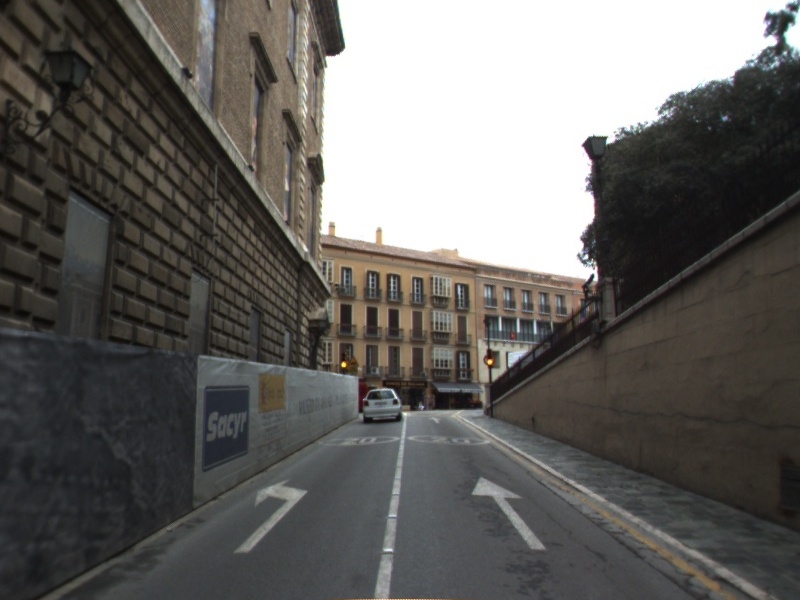LEFT: (231, 478, 309, 555)
STRAIGHT: (470, 475, 550, 551), (427, 415, 444, 425)
